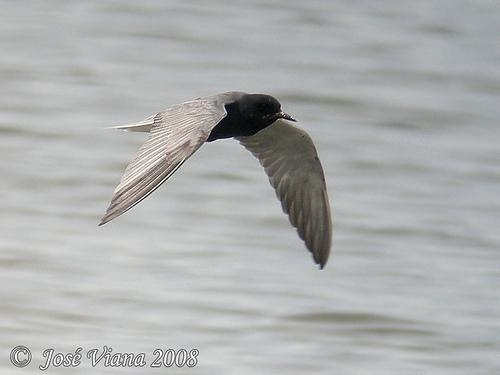bird: (97, 90, 334, 271)
